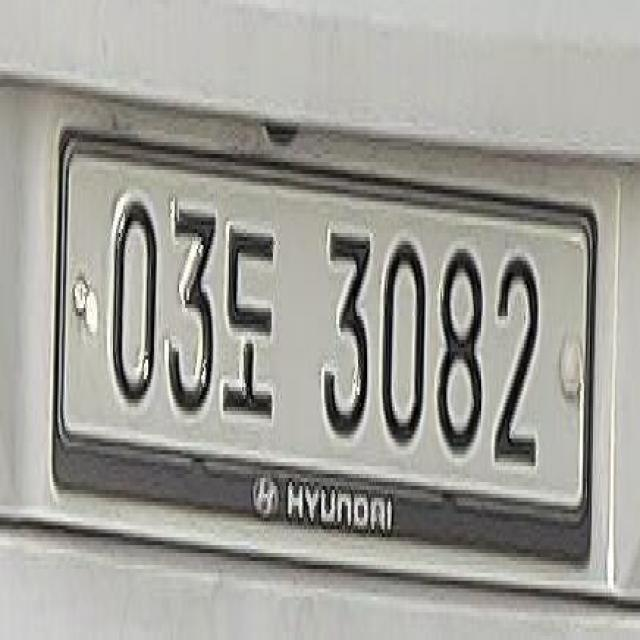illegal_plate: (50, 141, 607, 586)
